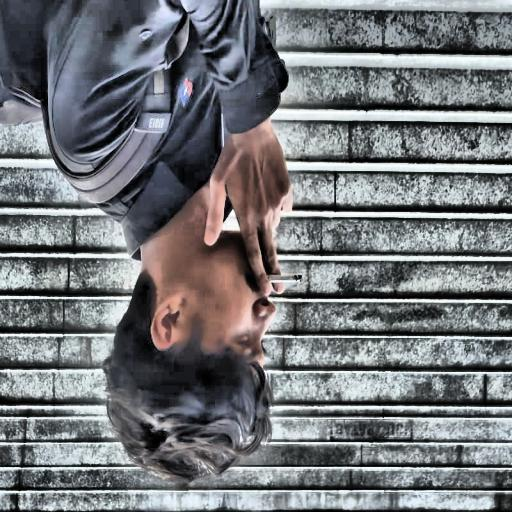Merokok: (269, 273, 301, 283)
Rokok: (141, 119, 293, 366)
